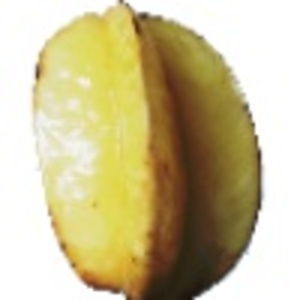carambola: (30, 1, 264, 300)
